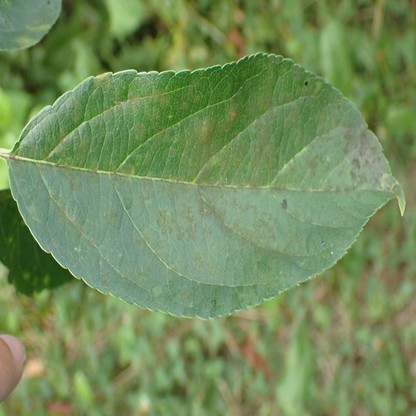scab: (15, 56, 395, 316)
